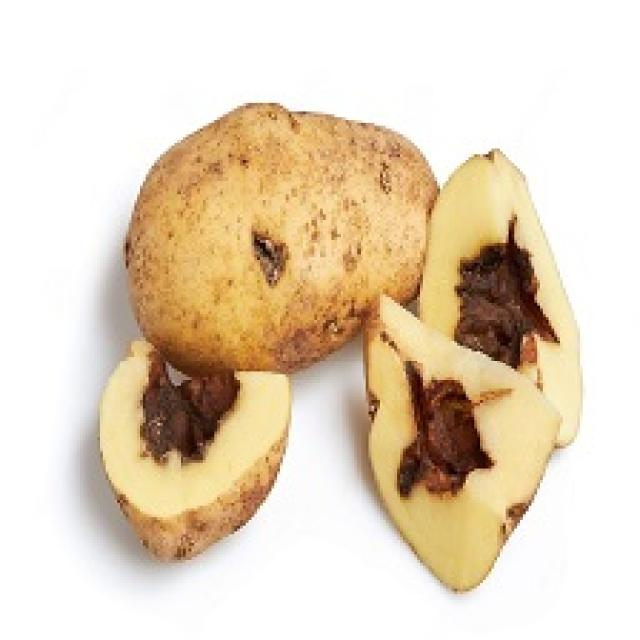blackleg: (362, 136, 592, 603), (87, 314, 318, 576)
